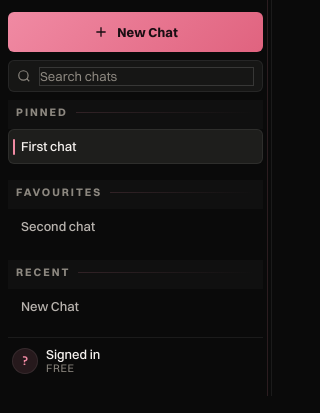
Test: ChatSidebar — search › searches the untitled chat by its fallback name
In the field with class "sidebar-search-input": (146, 76) left=39, top=66, right=254, bottom=86, type "new ch"
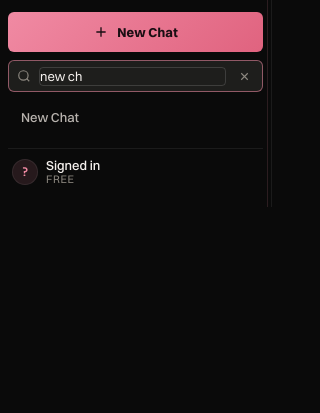
Expected: the number of buttons with class "chat-title" is 1, left=13, top=101, right=254, bottom=134
